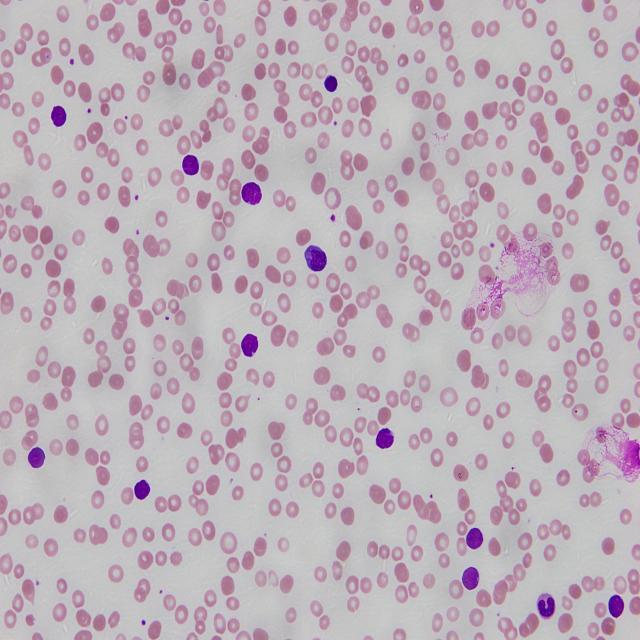cell: (241, 182, 261, 205), (241, 333, 259, 357), (466, 528, 484, 550), (462, 567, 479, 590), (376, 428, 394, 448), (28, 447, 45, 468), (609, 595, 624, 618), (182, 155, 199, 175), (51, 105, 66, 127), (134, 480, 150, 500), (324, 75, 338, 92)
